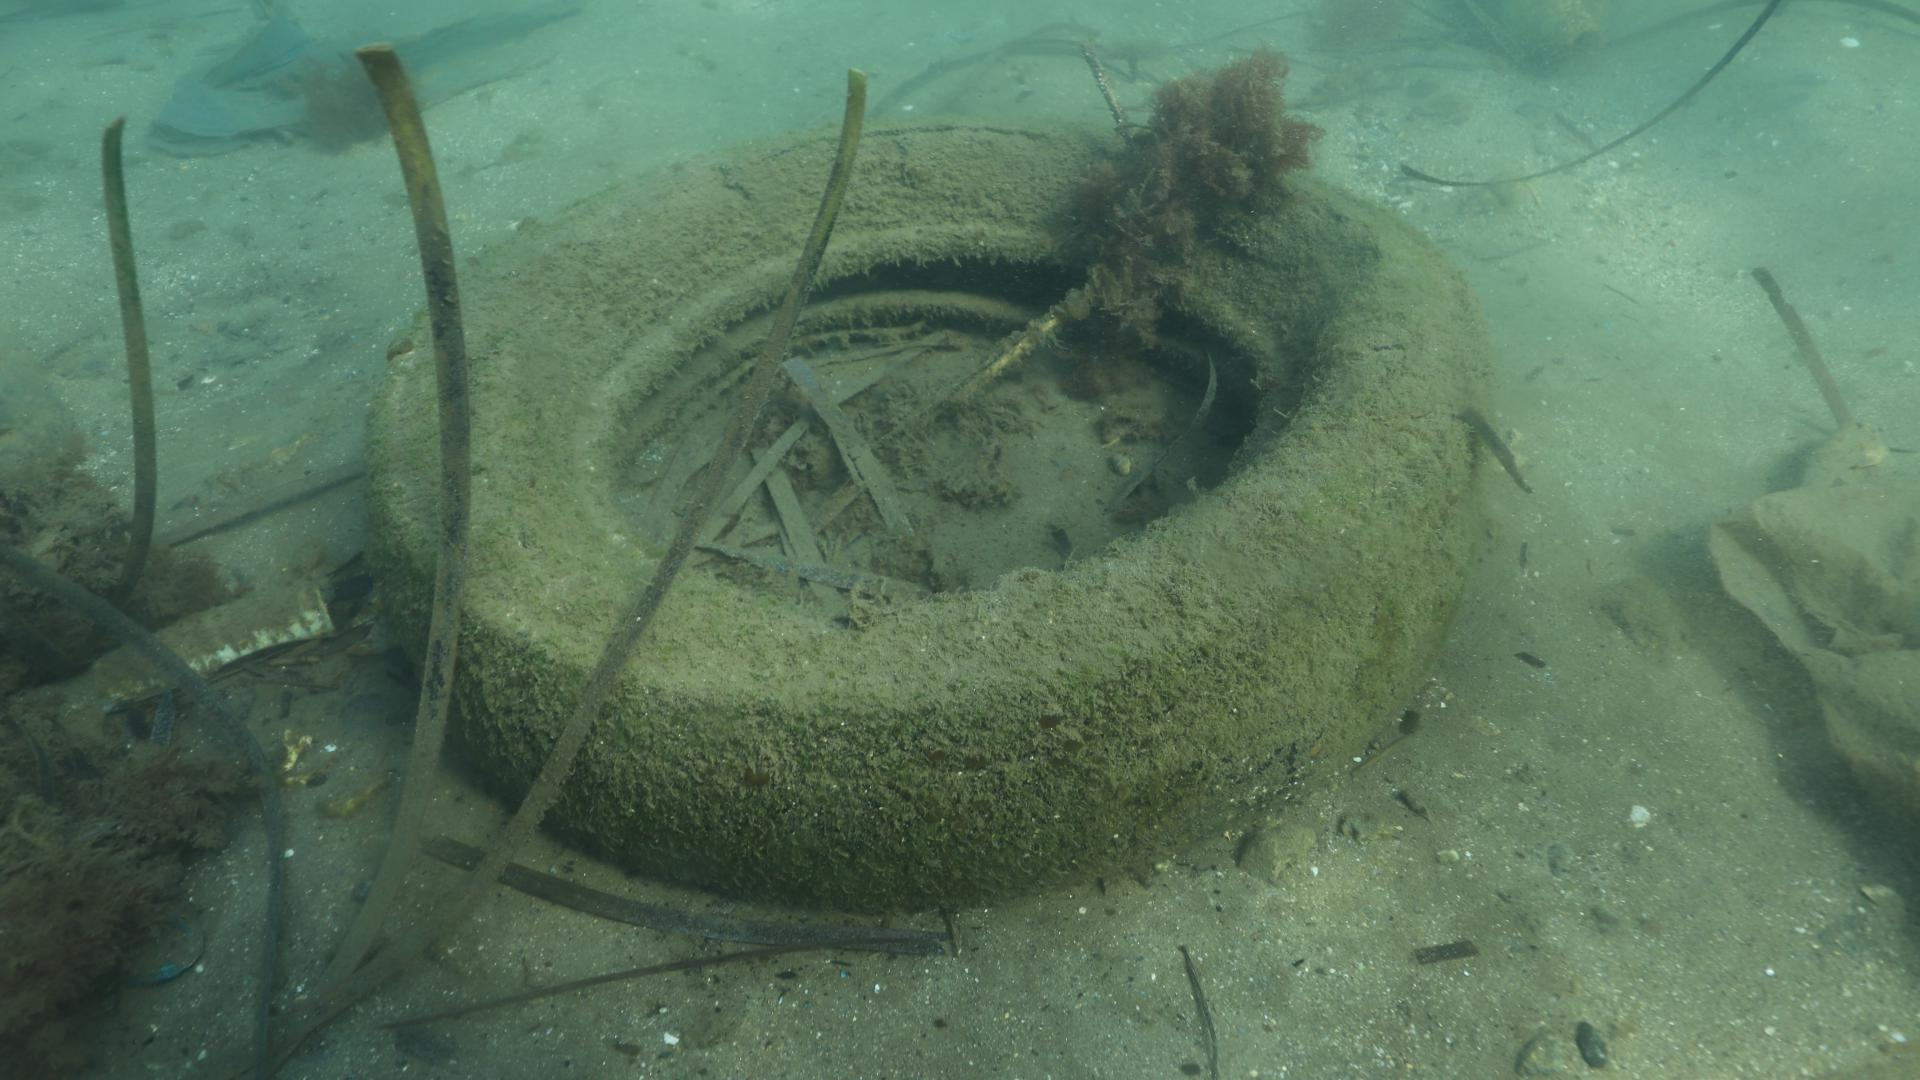tire: (353, 121, 1486, 920)
